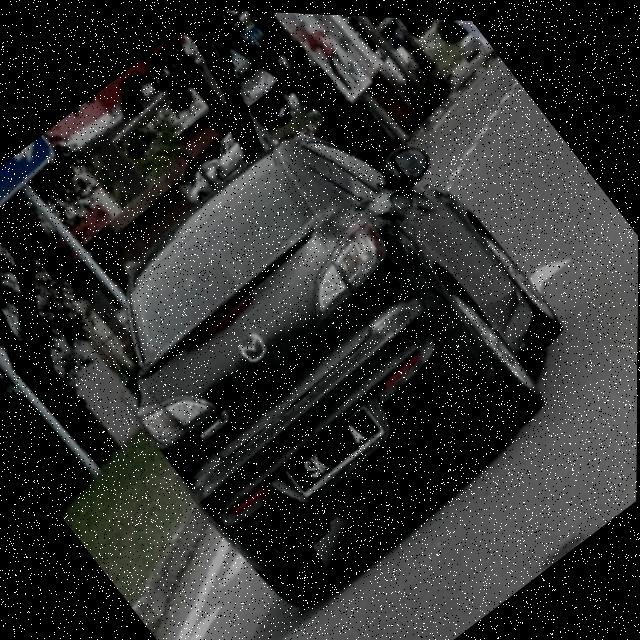license_plate: (282, 397, 390, 498)
